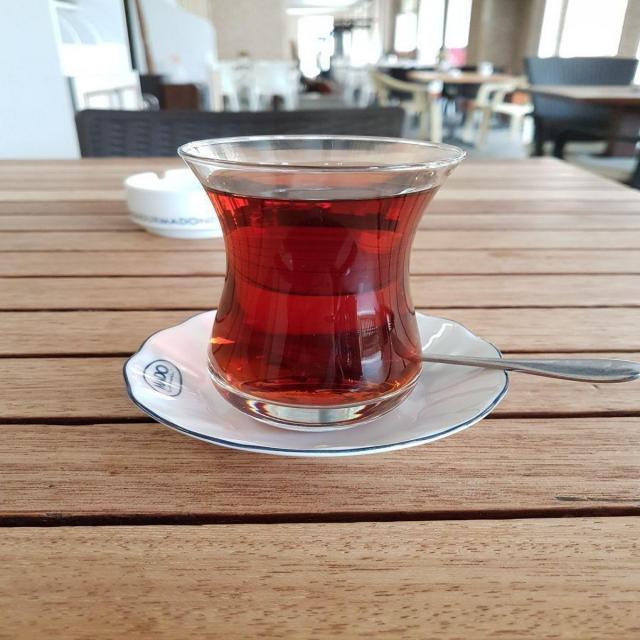glass-normal: (176, 134, 469, 427)
